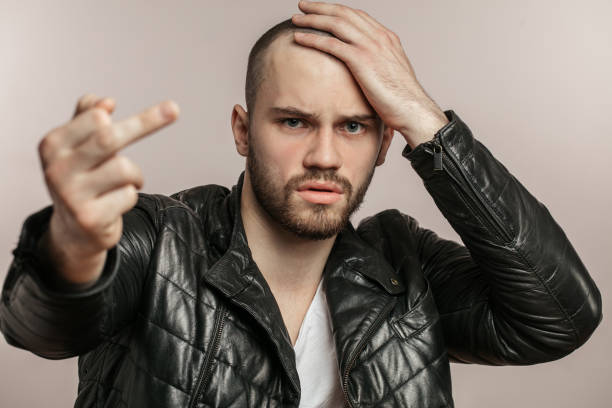insulting_gesture: (37, 92, 184, 234)
